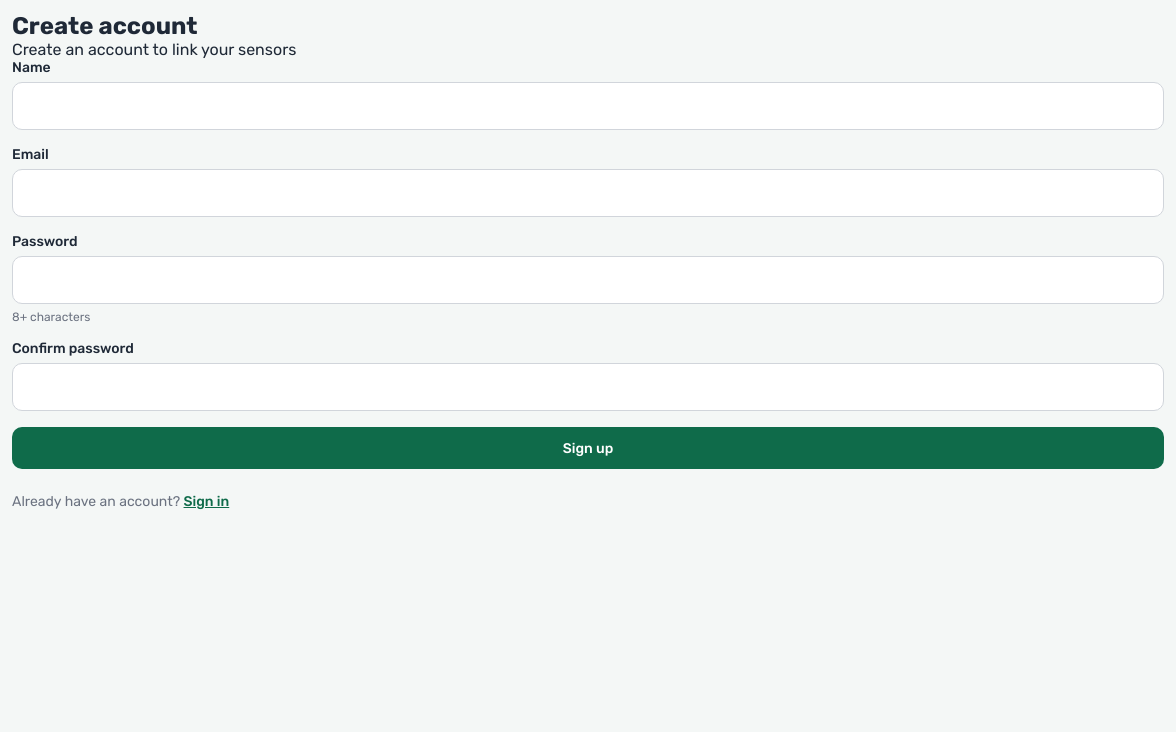
Test case: Signup › registers and shows the code step for the email the server used
The image size is (1176, 732).
In the field labelled "Name": point(588, 106) [12,82,1164,130], type "Sara"
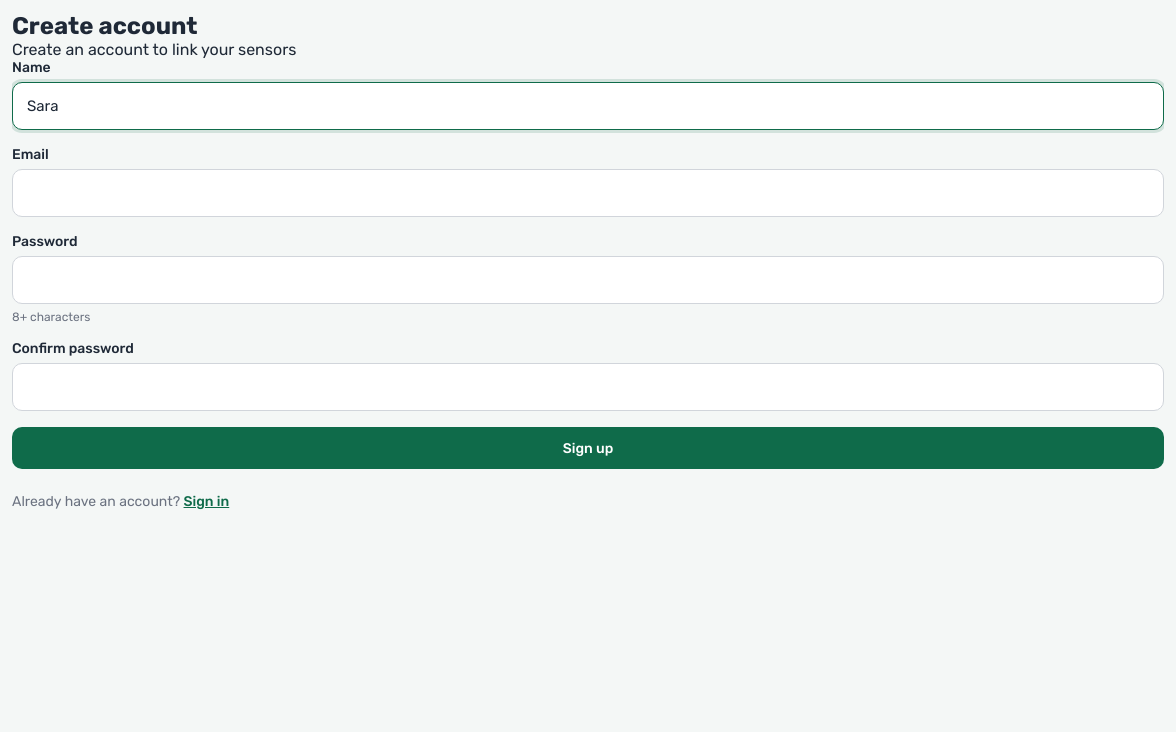
In the field labelled "Email": point(588, 193) [12,169,1164,217], type "sara@example.com"
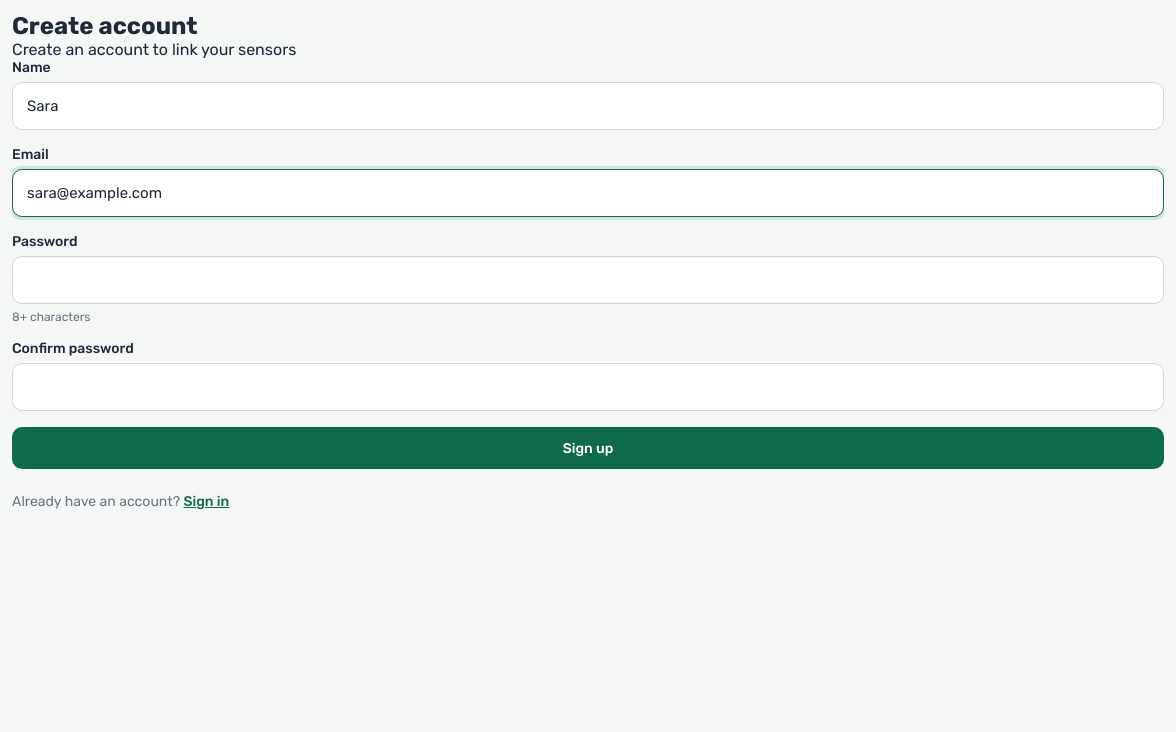
In the password field labelled "Password 8+ characters": point(588, 280) [12,256,1164,304], type "password-1"
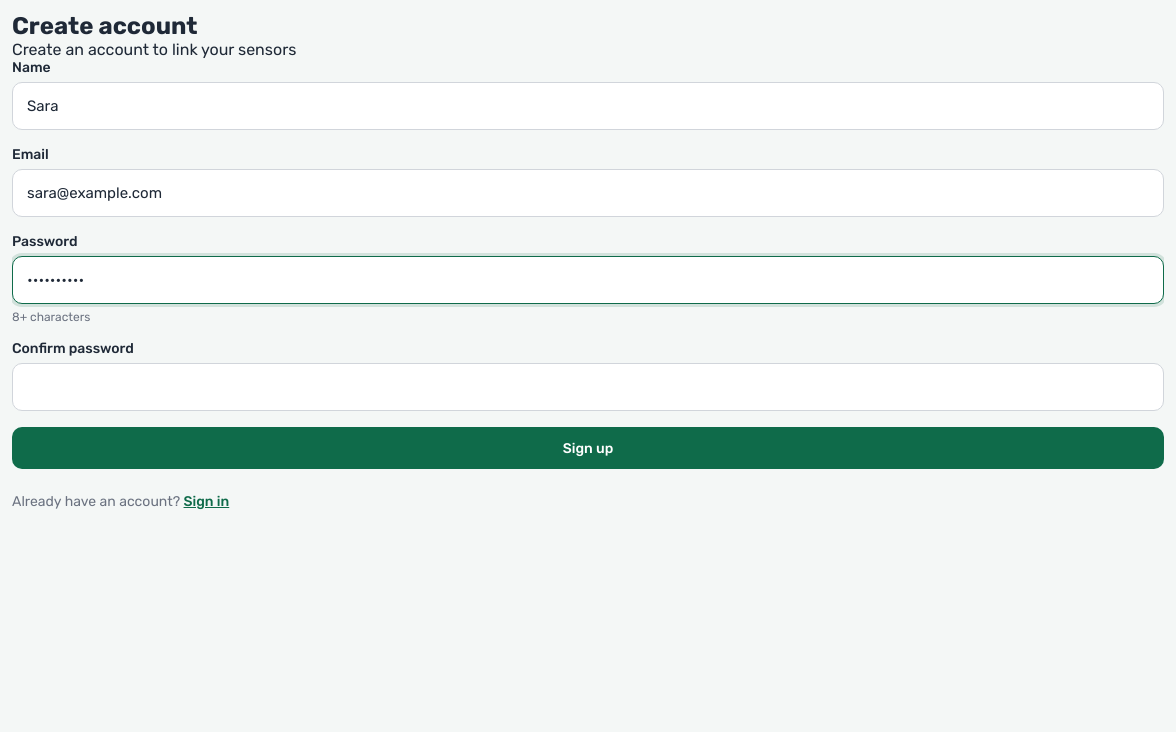
In the password field labelled "Confirm password": point(588, 387) [12,363,1164,411], type "password-1"
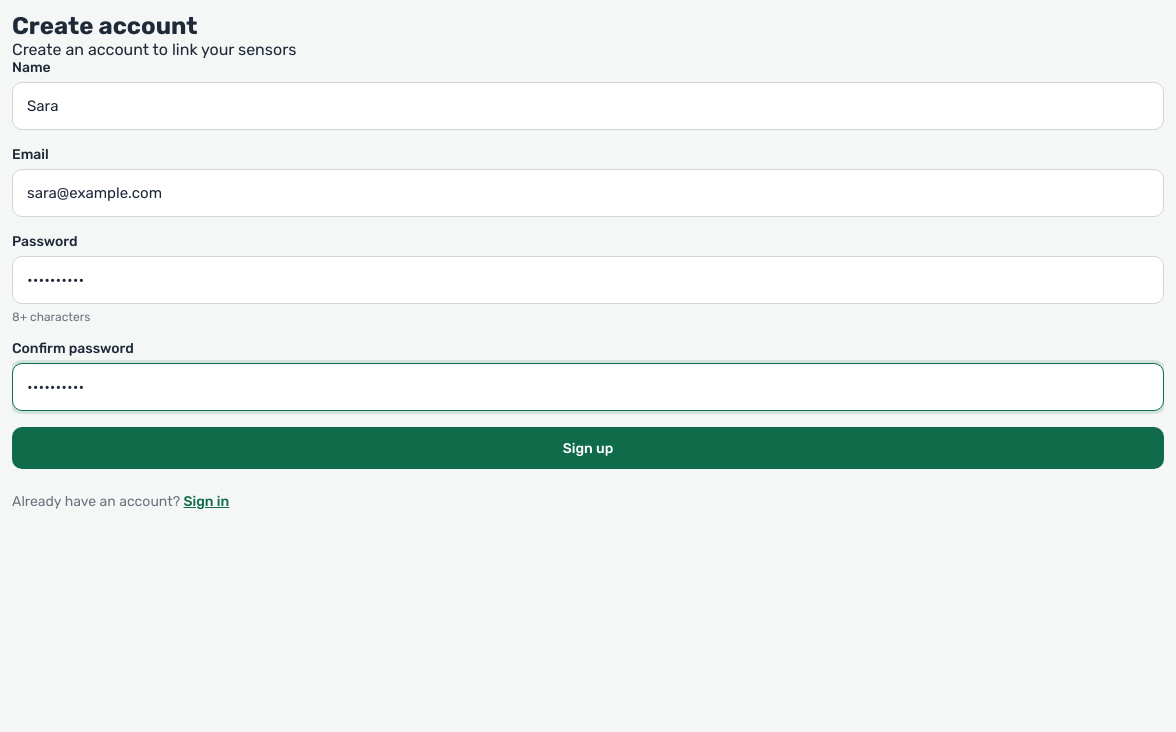
Click the button "Sign up": point(588, 448) [12,427,1164,469]
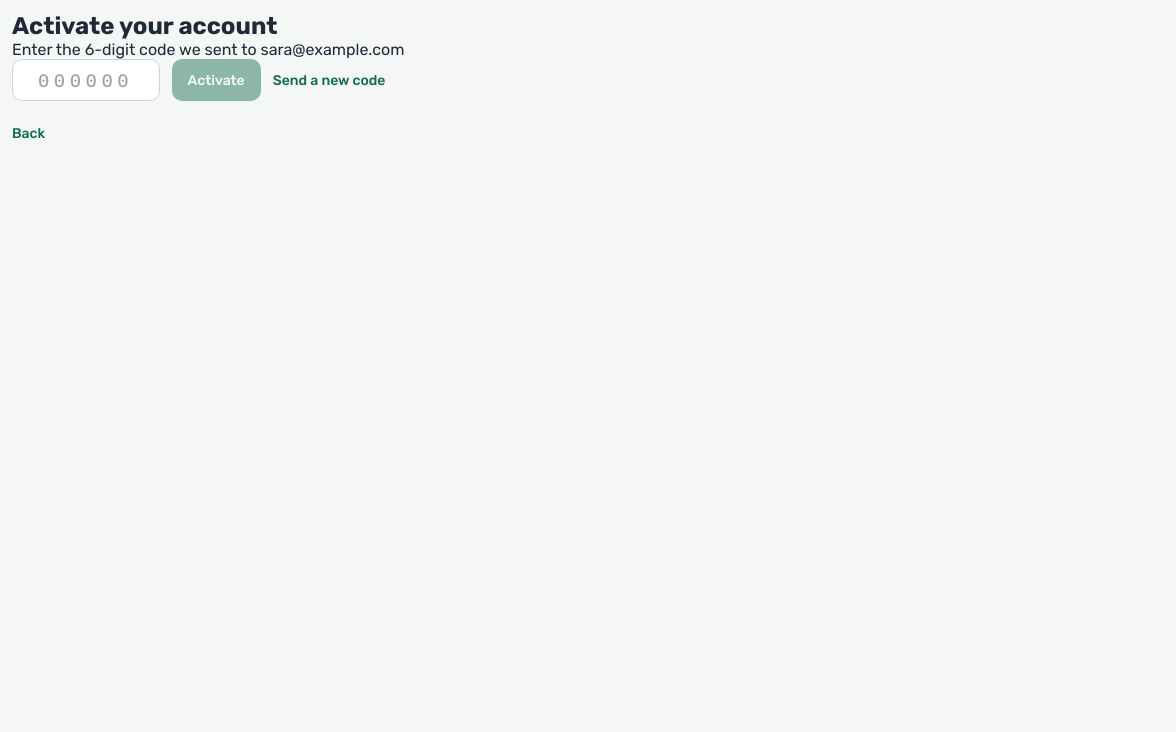
Result: the heading "Activate your account" is shown at [12,12,277,40]
Click the button "Back": point(29, 134) [12,125,45,142]
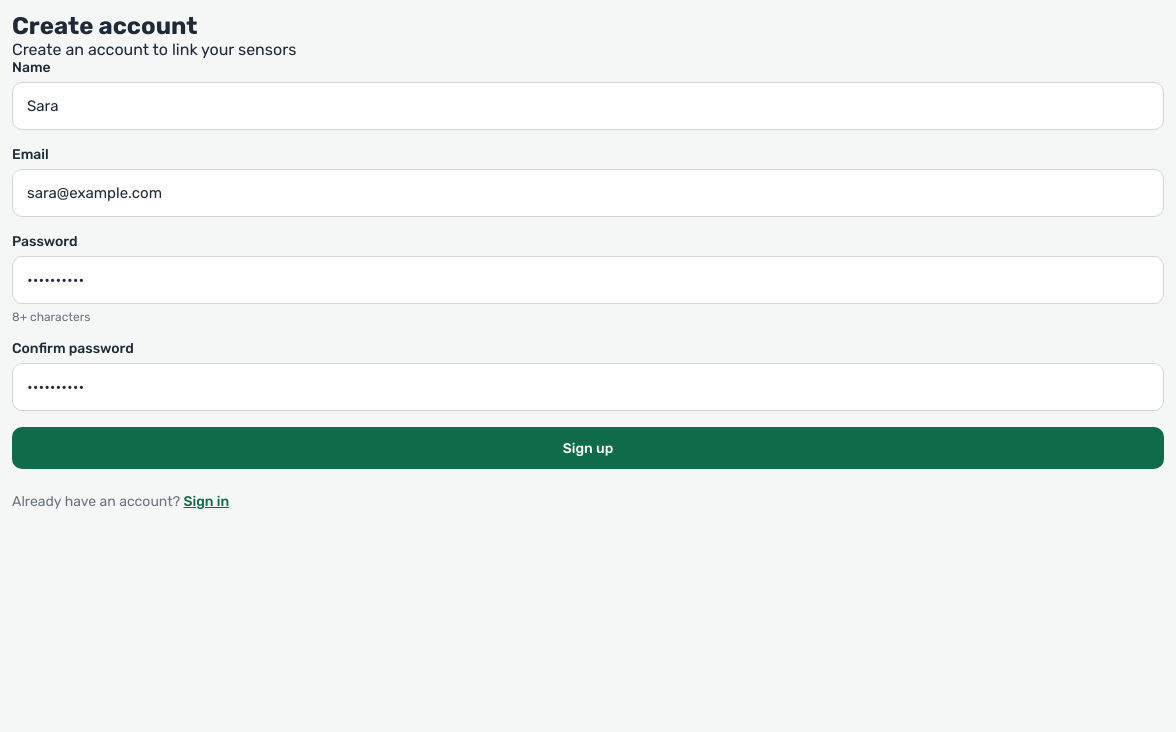
Result: the field labelled "Name" holds "Sara" at [12,82,1164,130]
